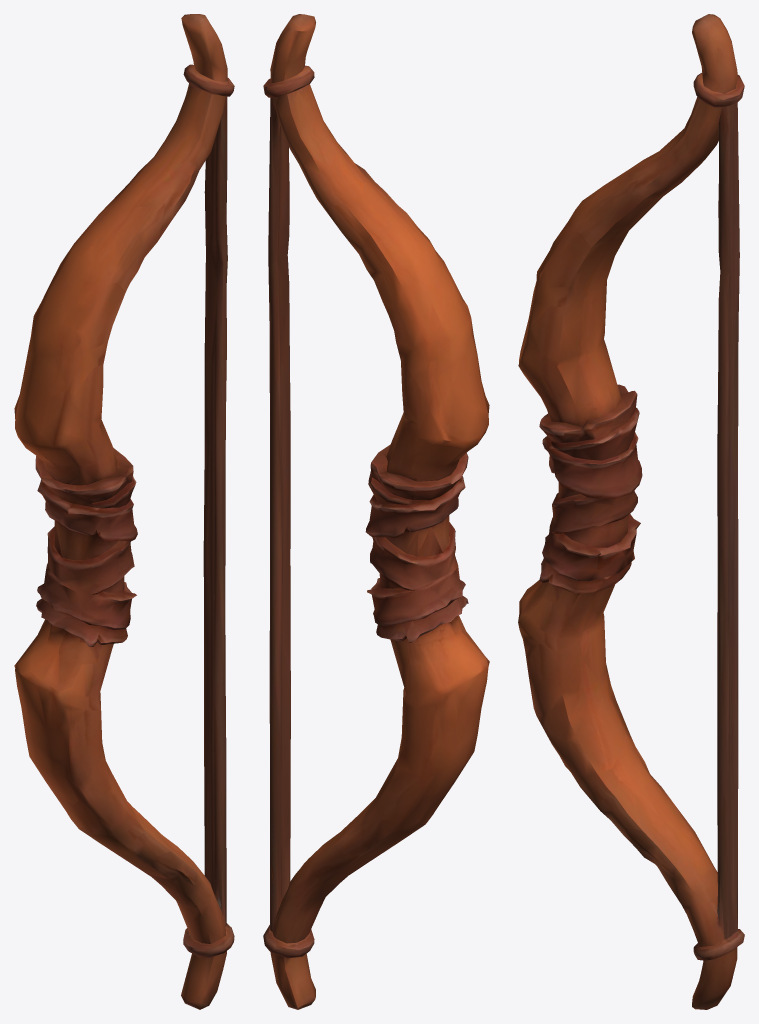
File: bow_wood_simple_idle.glb
3 renders of one model, left to right at view 1: azimuth 30°, elevation 25°; view 2: azimuth 150°, elevation 25°; view 3: azimuth 330°, elevation 25°, orthographic.
Visible parts, largest first — view 1: tripo_node_e4a58023-410d-4ee5-afae-4faeffe0ed19; view 2: tripo_node_e4a58023-410d-4ee5-afae-4faeffe0ed19; view 3: tripo_node_e4a58023-410d-4ee5-afae-4faeffe0ed19.
Boxes of the visible parts, x1,y1,x2,y2 form: tripo_node_e4a58023-410d-4ee5-afae-4faeffe0ed19: (14, 14, 234, 1009); tripo_node_e4a58023-410d-4ee5-afae-4faeffe0ed19: (263, 14, 489, 1009); tripo_node_e4a58023-410d-4ee5-afae-4faeffe0ed19: (518, 14, 744, 1009).
Size of the model in its own units: 0.2666 by 1.2 by 0.1373.
Materials: 1 (1 with a texture image).
